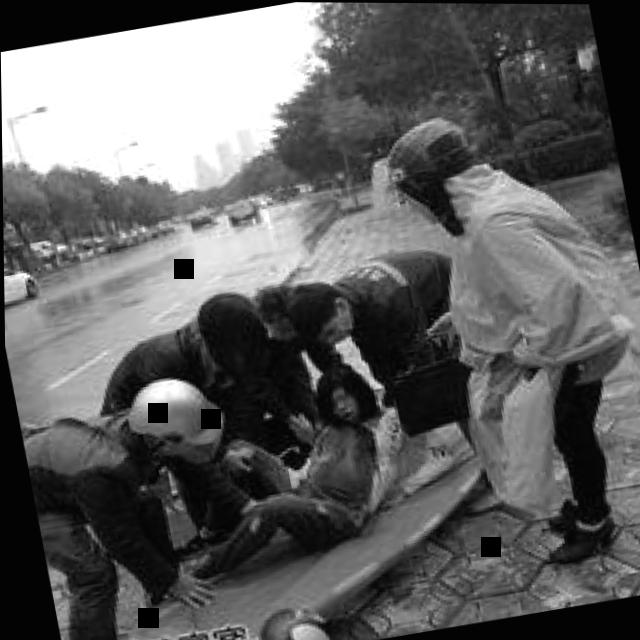Fall-Detected: (141, 347, 426, 623)
